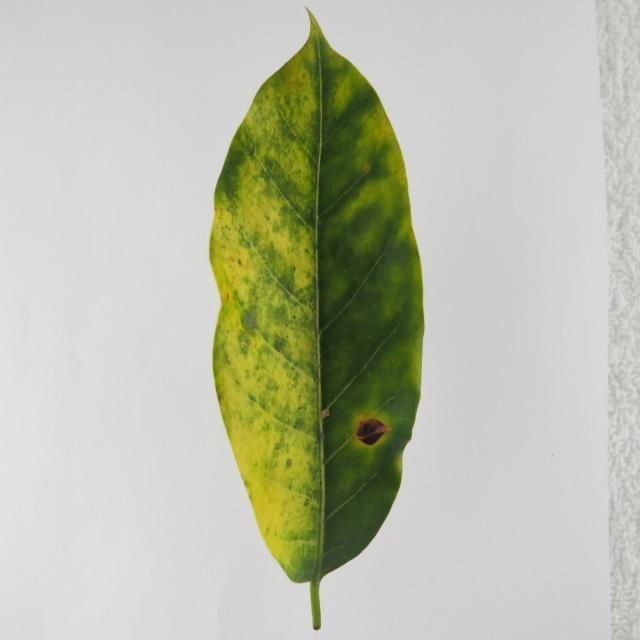DeficienciaNutricional-Nitrogeno: (210, 13, 424, 630)
